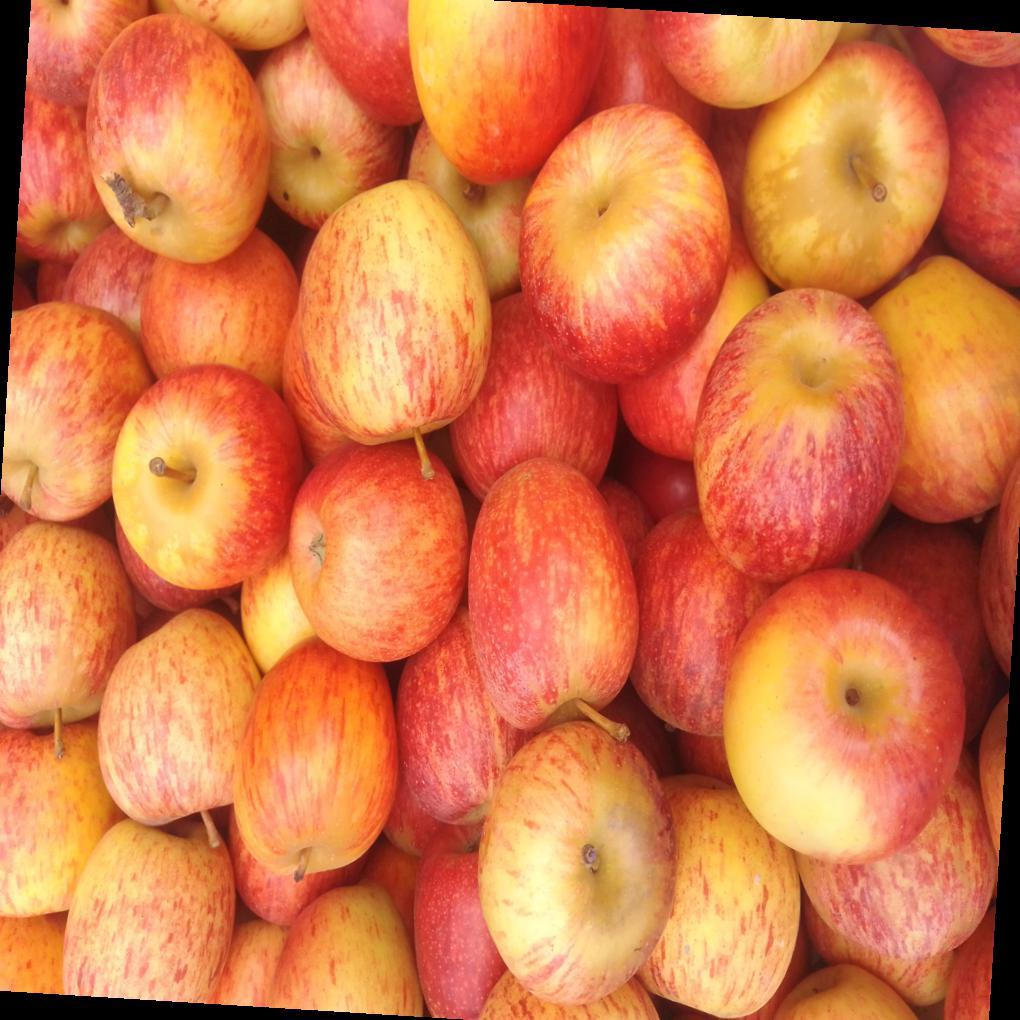FreshGuava: (11, 3, 1020, 1020)
